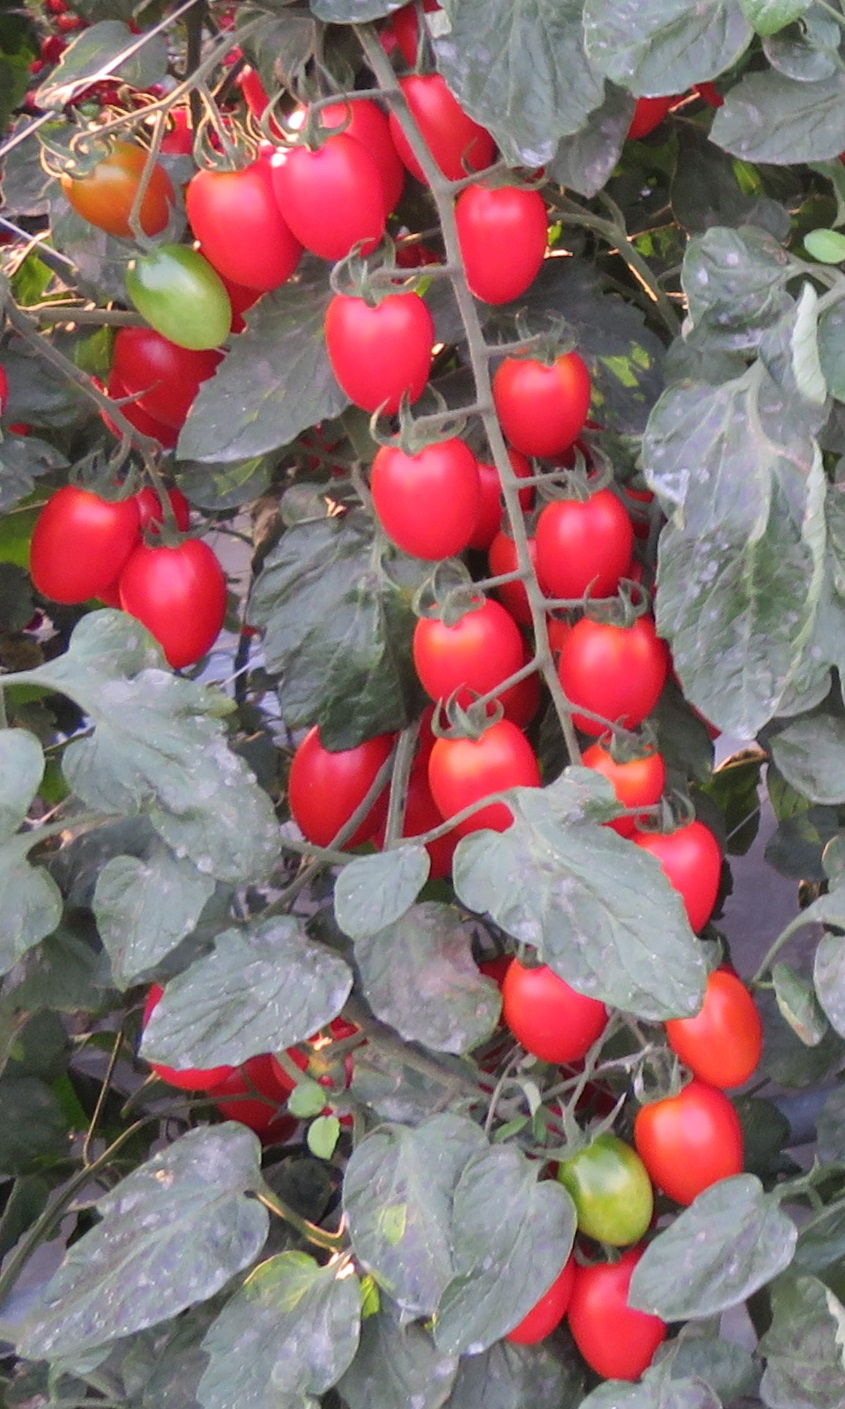green: (113, 244, 238, 353), (553, 1128, 657, 1250)
orange: (635, 1078, 753, 1212), (53, 134, 186, 244), (673, 973, 763, 1082)
red: (361, 418, 483, 562), (119, 534, 237, 681), (318, 273, 440, 412), (400, 592, 531, 714), (186, 149, 296, 294), (18, 470, 128, 607), (280, 140, 400, 256), (557, 607, 673, 728), (445, 181, 557, 304), (290, 721, 395, 850), (564, 1250, 664, 1382), (108, 323, 226, 430), (499, 955, 608, 1072), (422, 721, 534, 831), (534, 489, 635, 608), (490, 359, 603, 462), (630, 817, 724, 937), (395, 86, 505, 173), (582, 733, 671, 839), (282, 95, 398, 146), (116, 469, 194, 543), (508, 1259, 572, 1349)
